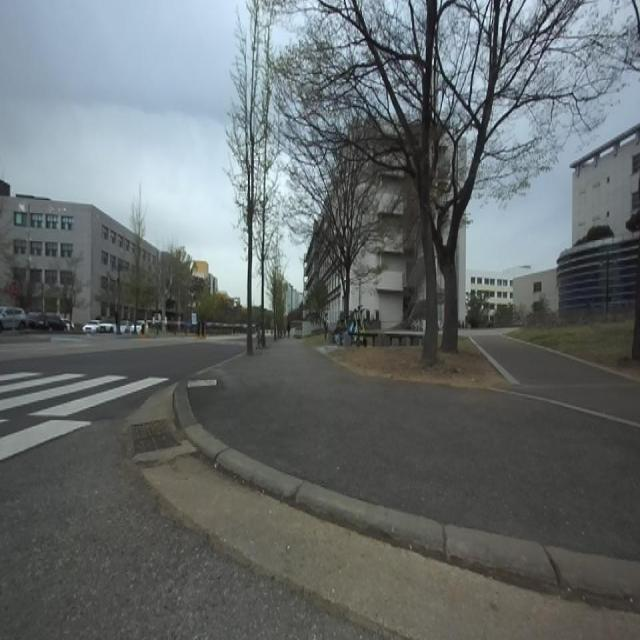sidewalk: (174, 382, 640, 609), (186, 330, 640, 560)
